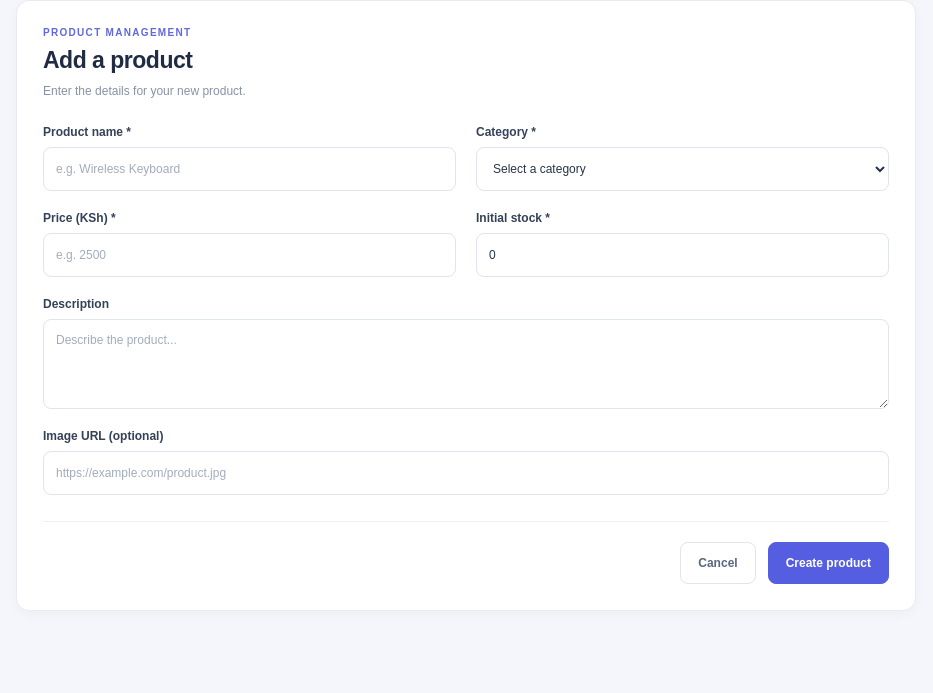
it: ProductForm component › rejects a negative price
The image size is (933, 693).
Select "Electronics" in the dropdown labelled "Category *" at {"x": 682, "y": 169}, box [476, 147, 889, 191]
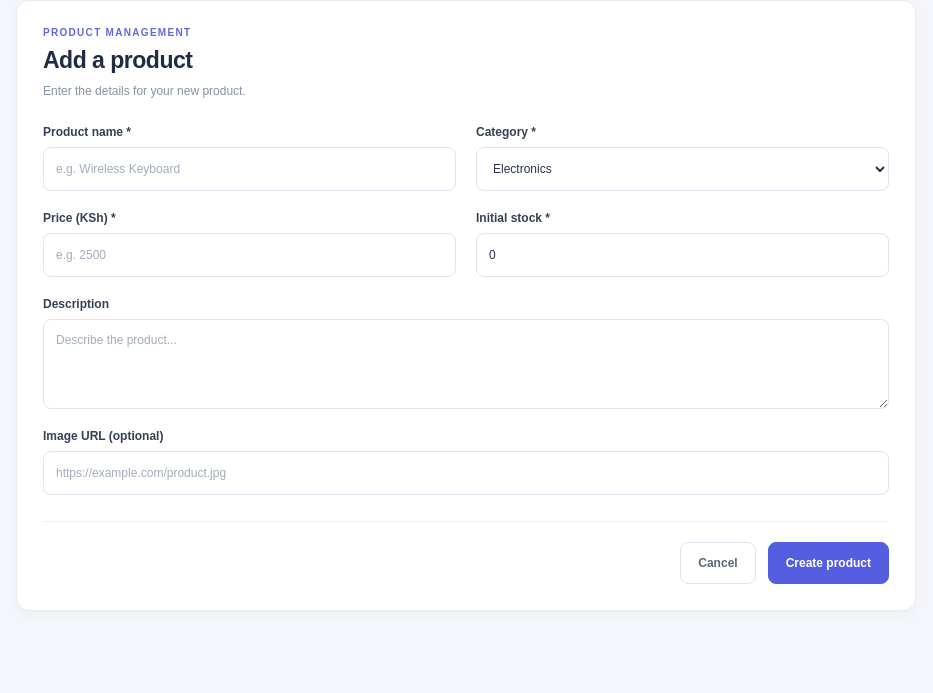
Type "Keyboard" into the field labelled "Product name *" at {"x": 250, "y": 169}, box [43, 147, 456, 191]
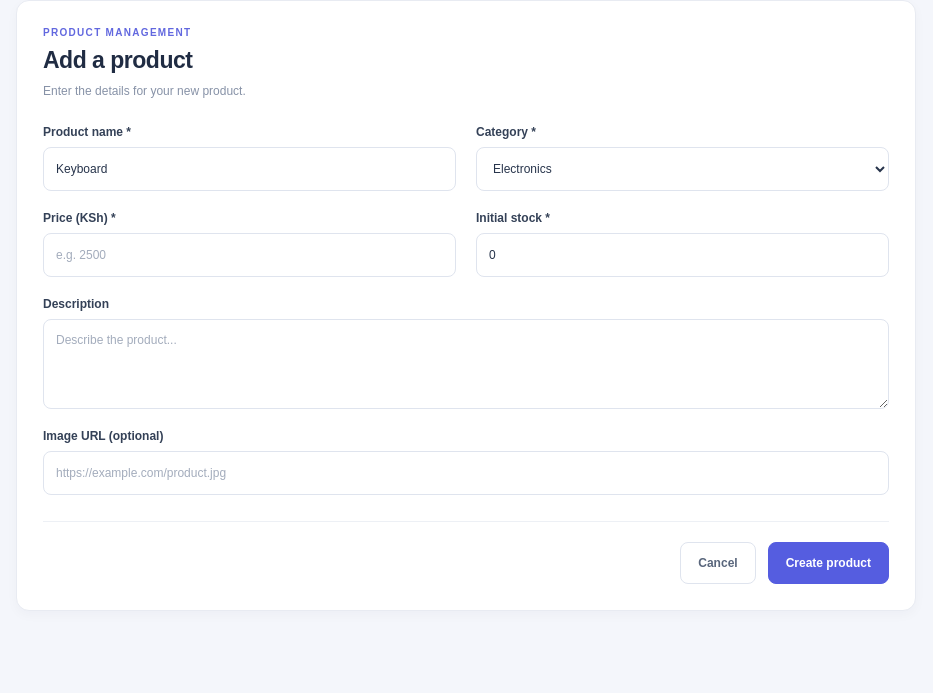
Type "-100" into the number field labelled "Price (KSh) *" at {"x": 250, "y": 255}, box [43, 233, 456, 277]
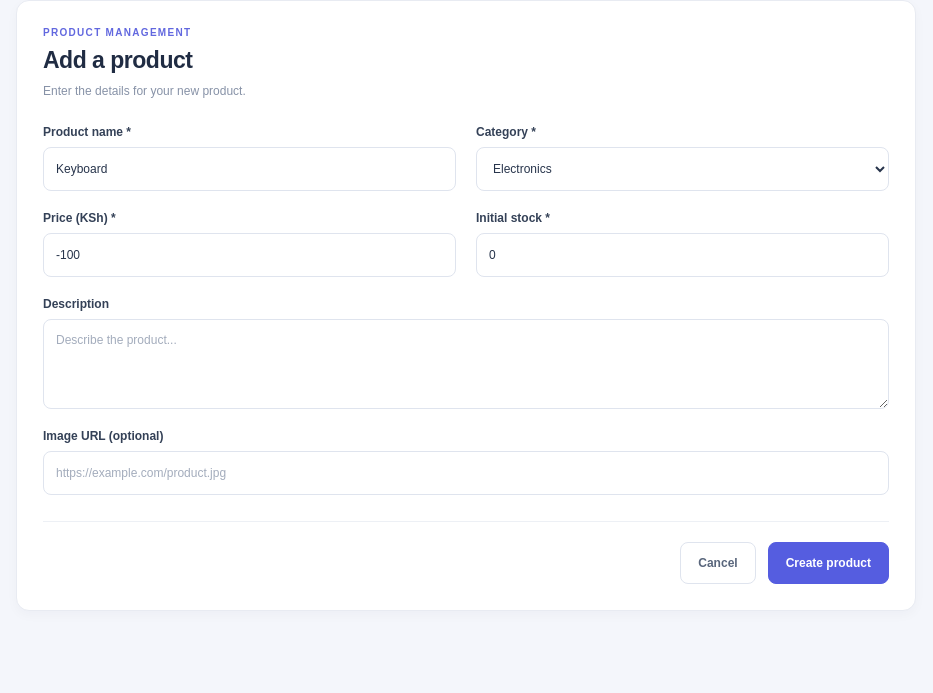
Submit the form labelled "Product name"
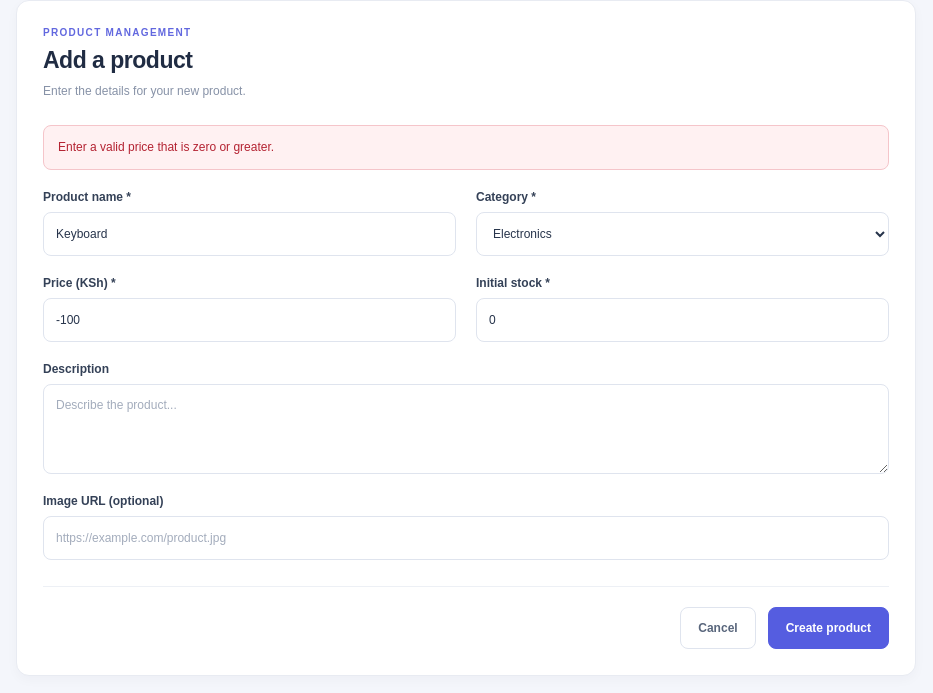
Now the message reads "Enter a valid price that is zero or greater.", box [58, 140, 274, 154]
